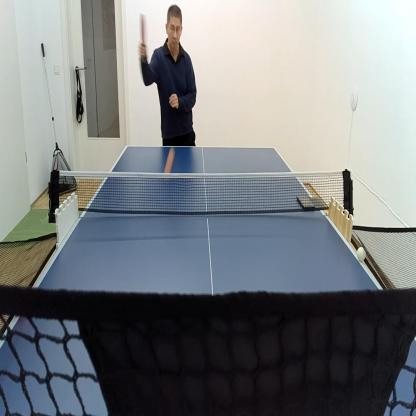Ball: (162, 146, 176, 176), (357, 244, 367, 264)
